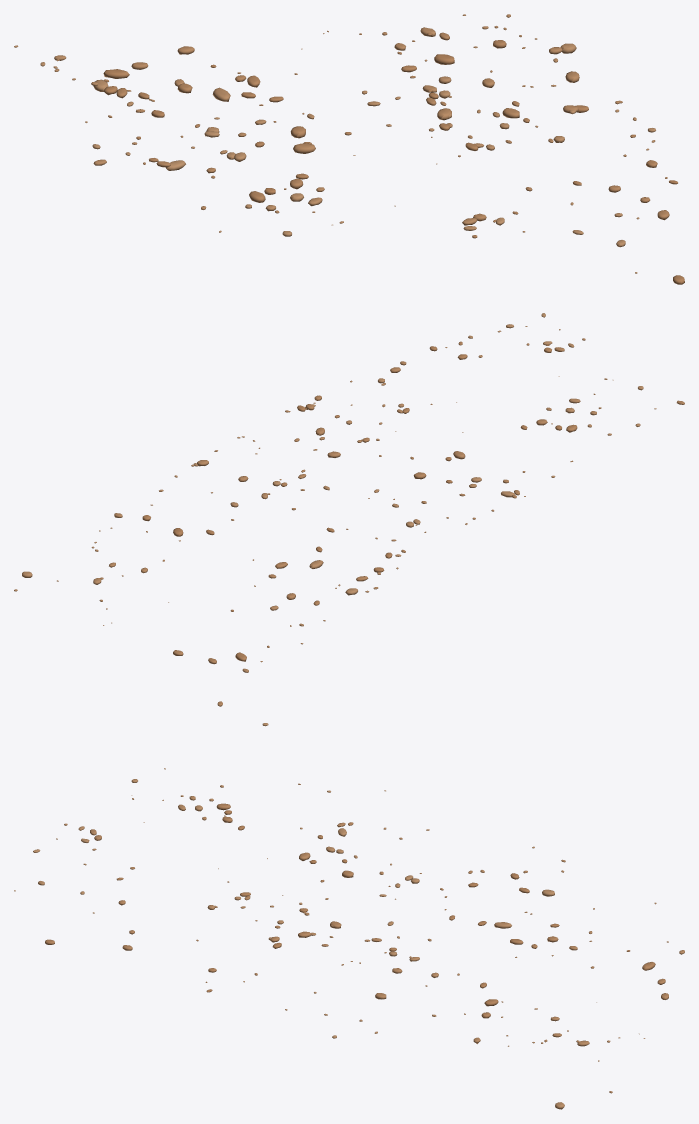
File: terrain-098.glb
The picture shows the model from 3 angles, top to bottom: view 1: azimuth 30°, elevation 25°; view 2: azimuth 150°, elevation 25°; view 3: azimuth 270°, elevation 25°; orthographic projection. The views are drawn at different scales.
Visible parts, largest first — view 1: terrain-098; view 2: terrain-098; view 3: terrain-098.
Boxes of the visible parts, x1,y1,x2,y2 form: terrain-098: (14,14,684,284); terrain-098: (14,313,684,672); terrain-098: (14,701,684,1109).
Size of the model in its own units: 58.32 by 19.09 by 68.77.
